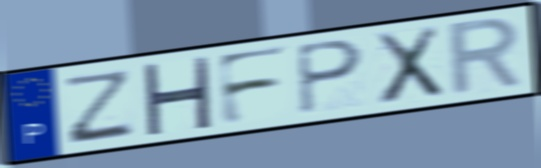F: (213, 43, 292, 129)
H: (139, 56, 213, 136)
P: (293, 37, 366, 117)
R: (447, 13, 527, 100)
X: (372, 23, 446, 108)
Z: (65, 66, 135, 146)
